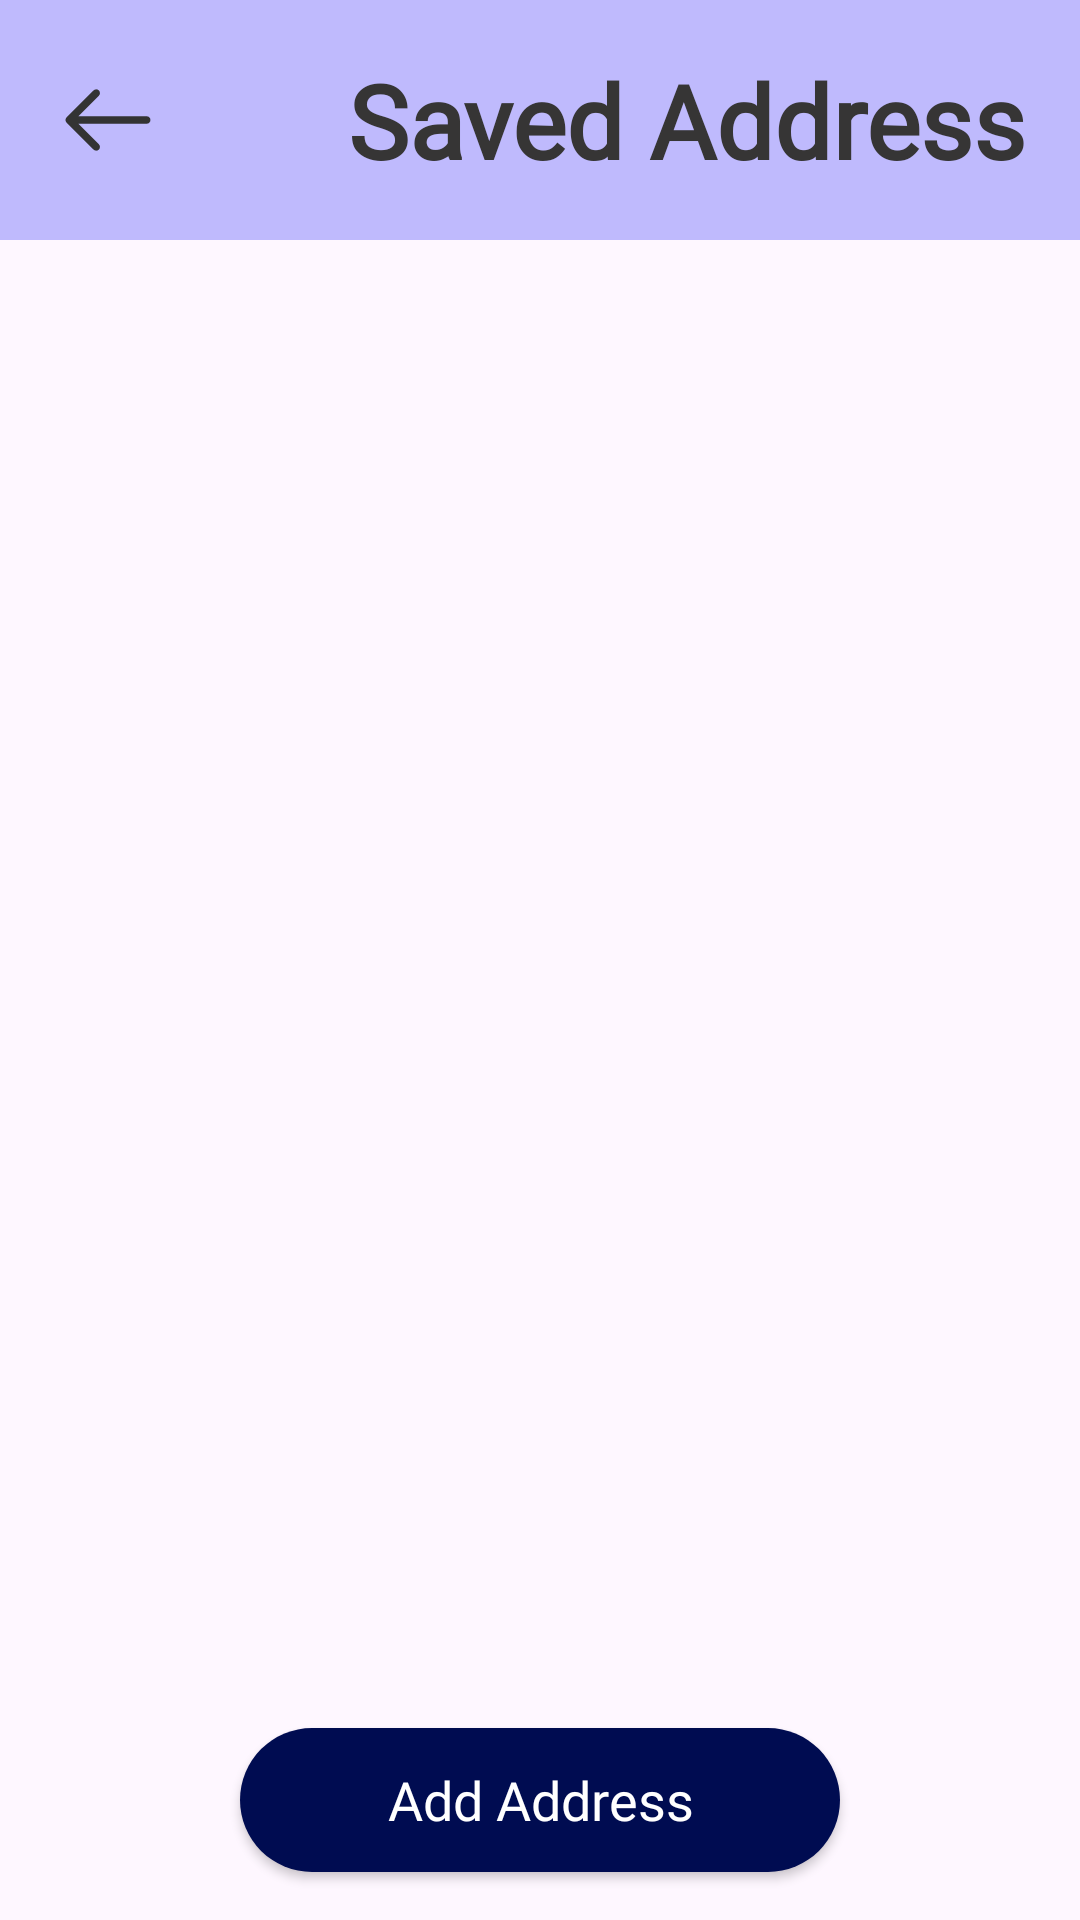

Where to tap for icons on this 1080 x 1920 app screen, as (x,y):
arrow back basic: (108,120)
